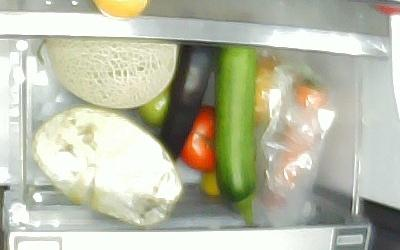cabbage: (33, 104, 182, 226)
carrot_vinyl: (263, 79, 327, 209)
eggplant: (158, 44, 213, 161)
melon: (47, 39, 176, 107)
pear_vinyl: (255, 55, 280, 122)
tomato: (181, 104, 224, 171), (137, 85, 168, 127)
zucchini: (214, 47, 258, 224)
